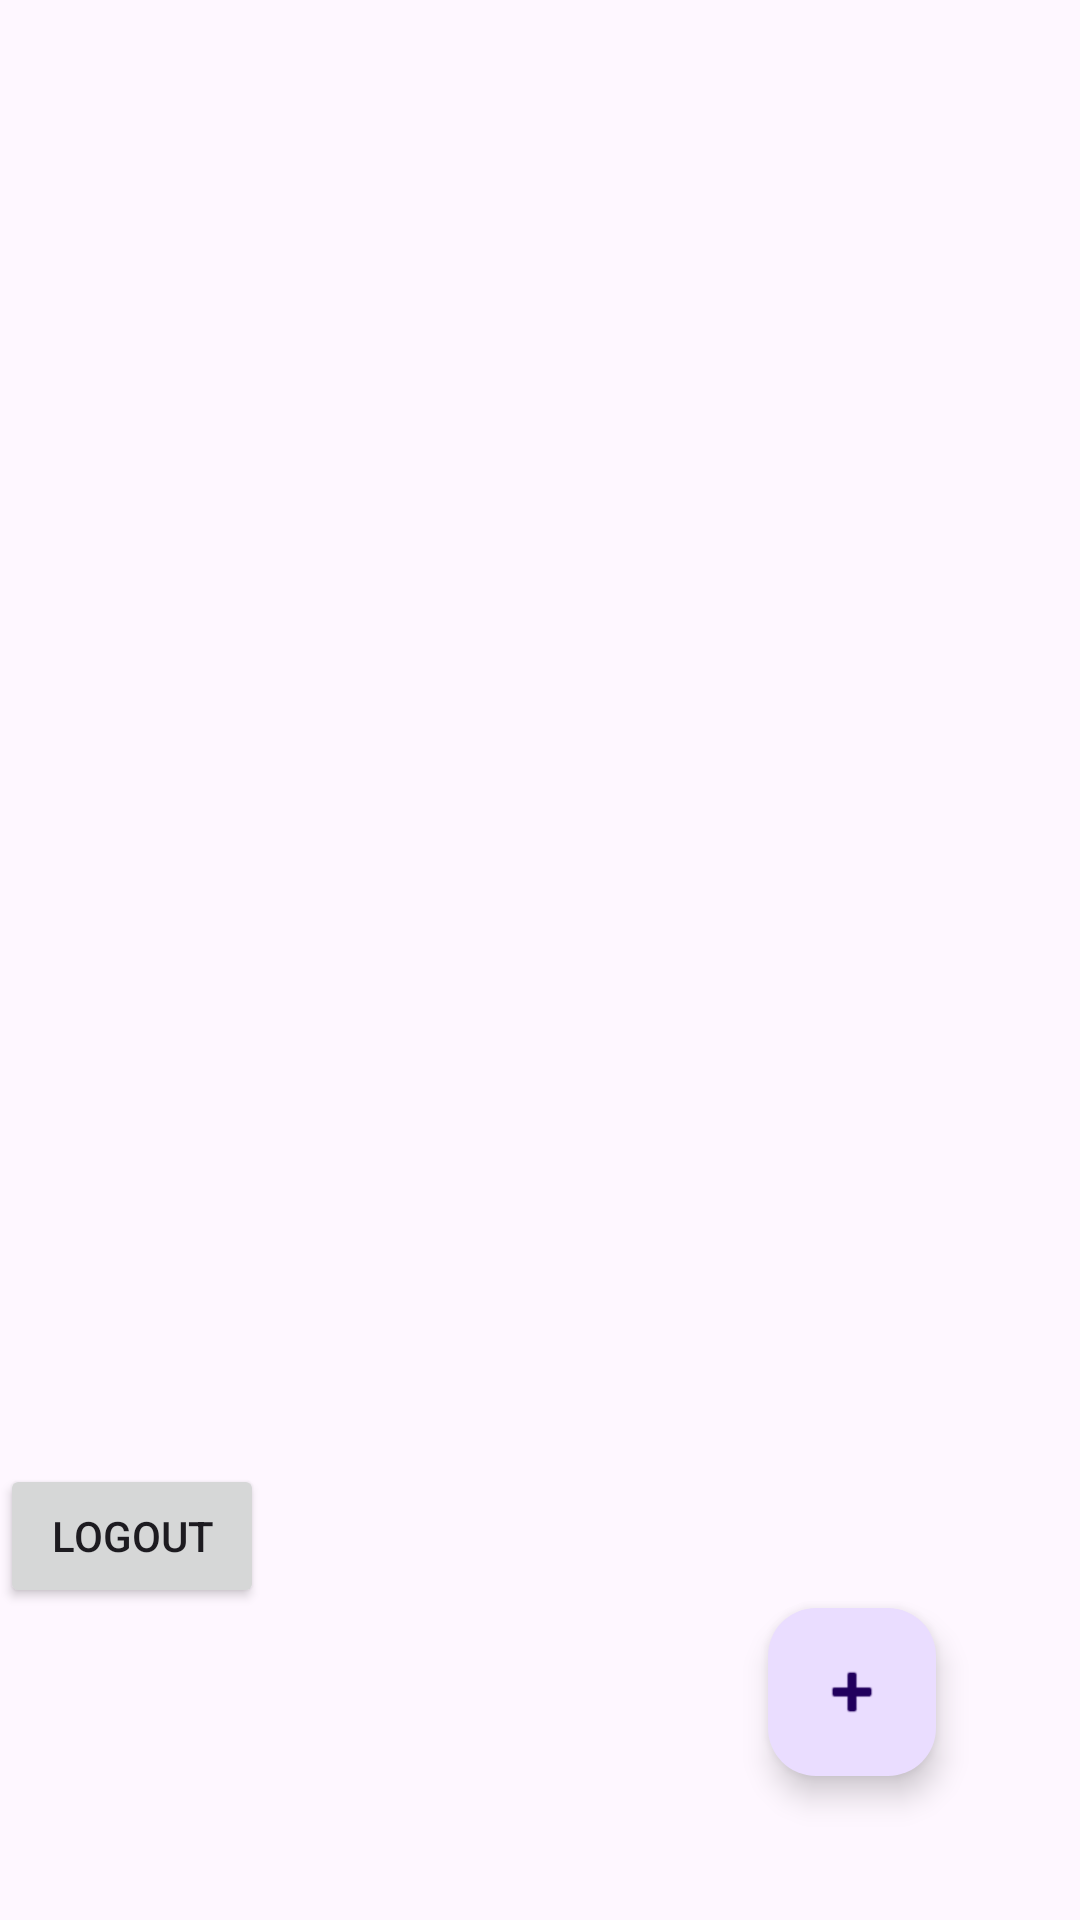

Where icons sit on this 1080 x 1920 app screen, as (x1=x1, y1=y1, x2=x2, y2=y2):
add: (x1=768, y1=1608, x2=936, y2=1776)
